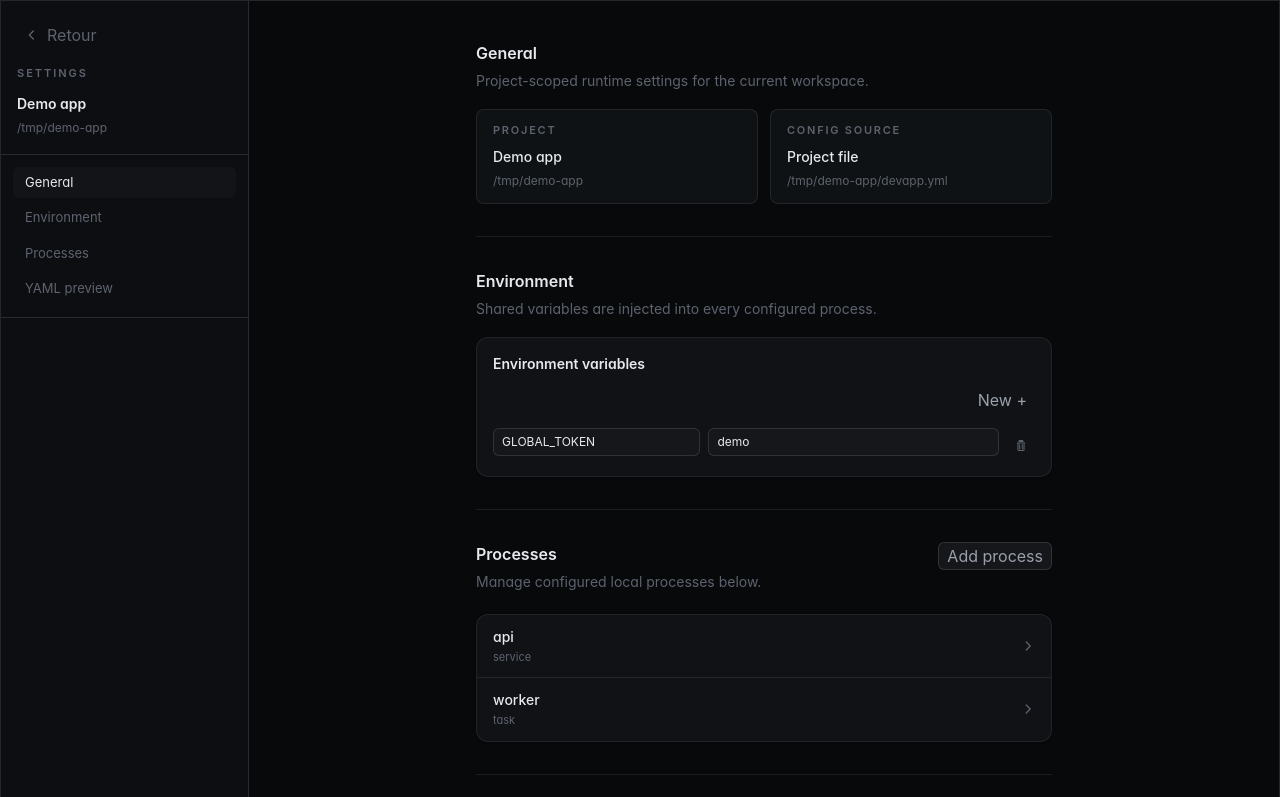
ConfigEditor › opens a dedicated process detail view and allows navigating back to list
This screenshot has width=1280, height=797.
Expected: the heading "Processes" is shown, [476,544,557,564]
Click the button with aria-label "Open process api (service)": [512, 656] box [477,614,1051,677]
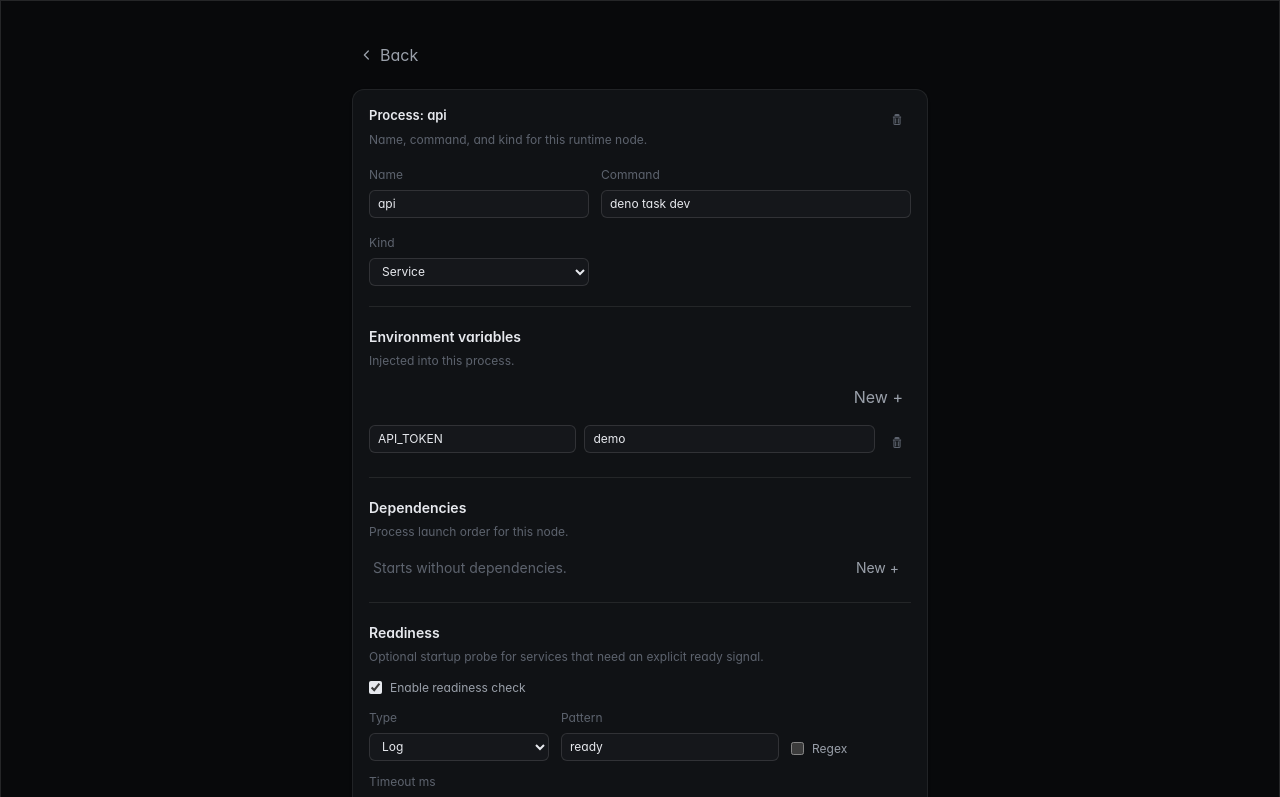
Expected: the heading "Process: api" is shown, [369,107,447,123]
Expected: the heading "Dependencies" is shown, [369,498,466,516]
Expected: the link "General" is gone
Click the button with aria-label "Back to processes": [389, 55] box [352,41,426,69]
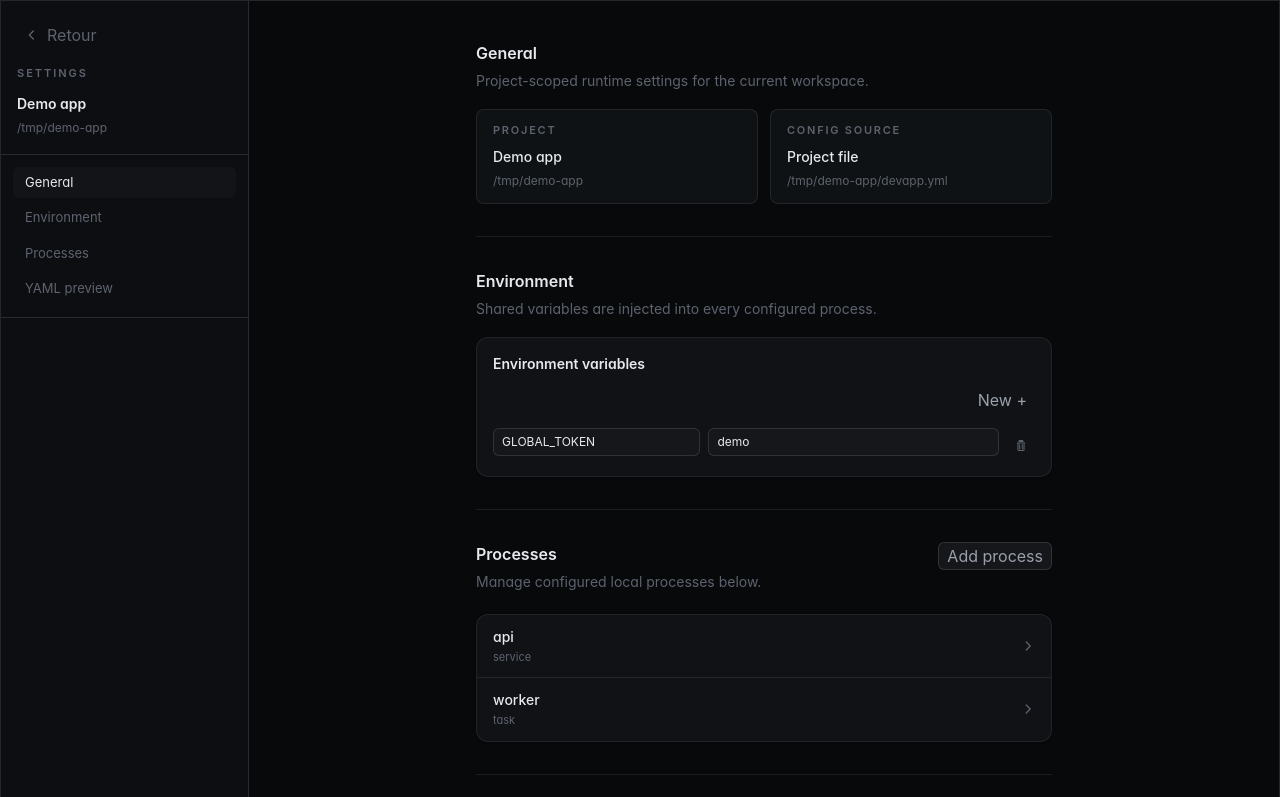
Expected: the button with aria-label "Open process api (service)" is shown, [477,614,1051,677]
Expected: the heading "Process: api" is gone
Expected: the navigation bar named "Settings sections" is shown, [1,154,248,318]
